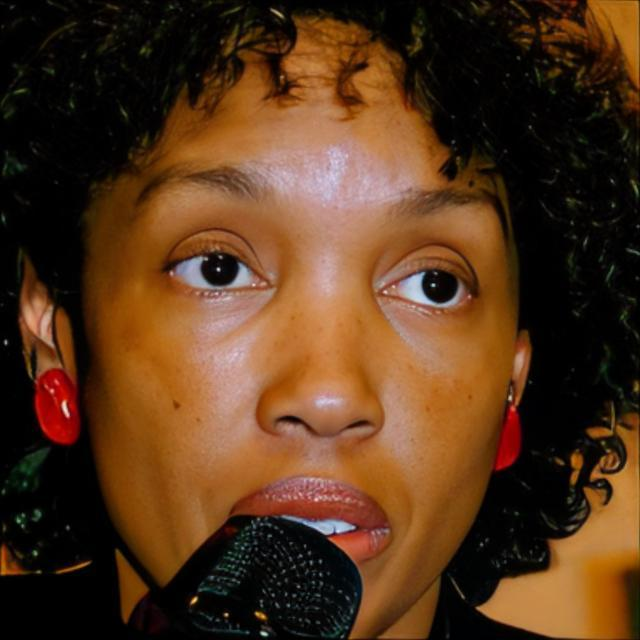surprise: (78, 11, 518, 640)
